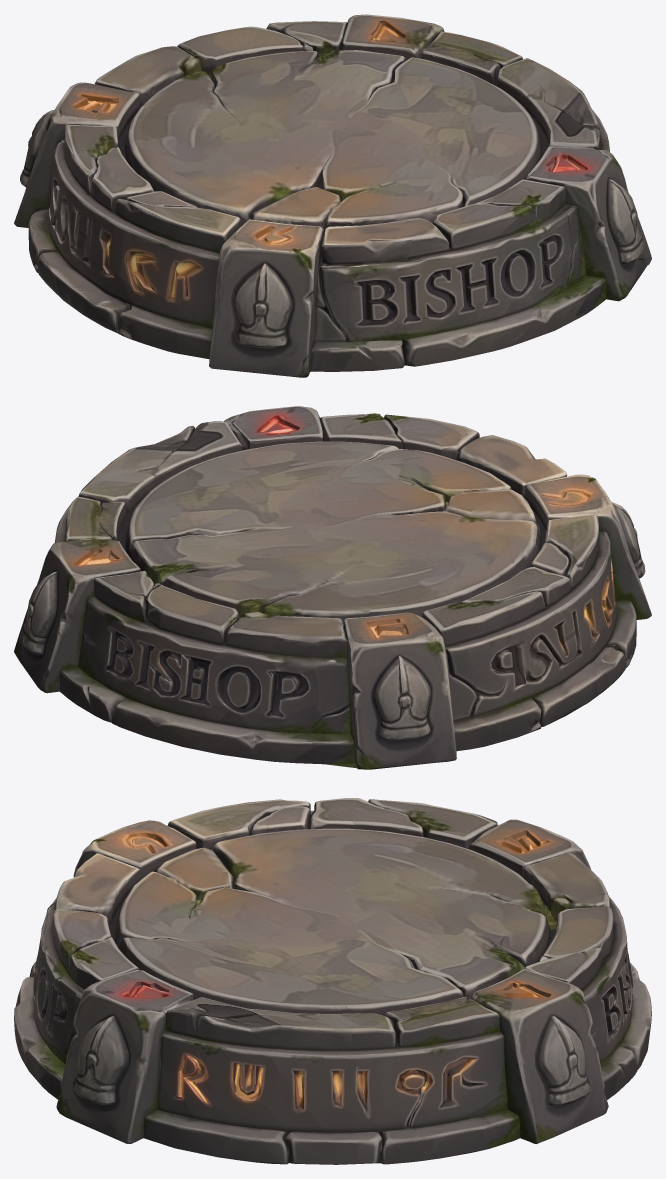
The model's file is bishop_foundation.glb.
The picture shows the model from 3 angles, top to bottom: view 1: azimuth 30°, elevation 25°; view 2: azimuth 150°, elevation 25°; view 3: azimuth 270°, elevation 25°; orthographic projection. The views are drawn at different scales.
Visible parts, largest first — view 1: Mesh_0; view 2: Mesh_0; view 3: Mesh_0.
Part boxes in pixels (box(x1,y1,x2,y2)): Mesh_0: box(14, 14, 651, 377); Mesh_0: box(14, 406, 651, 769); Mesh_0: box(14, 798, 651, 1164).
Size of the model in its own units: 1.9 by 0.4036 by 1.9.
1 material, 1 textured.
